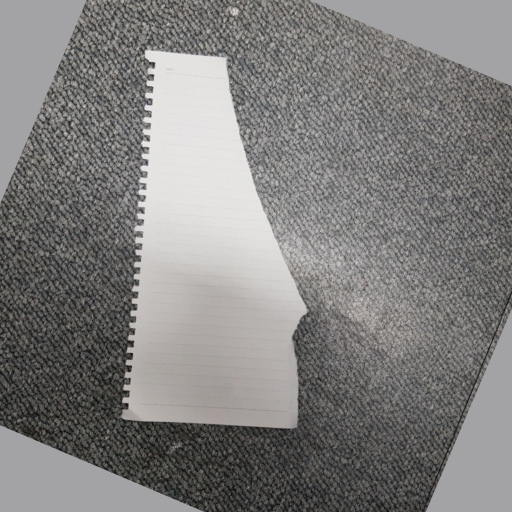Paper_2: (111, 44, 320, 439)
